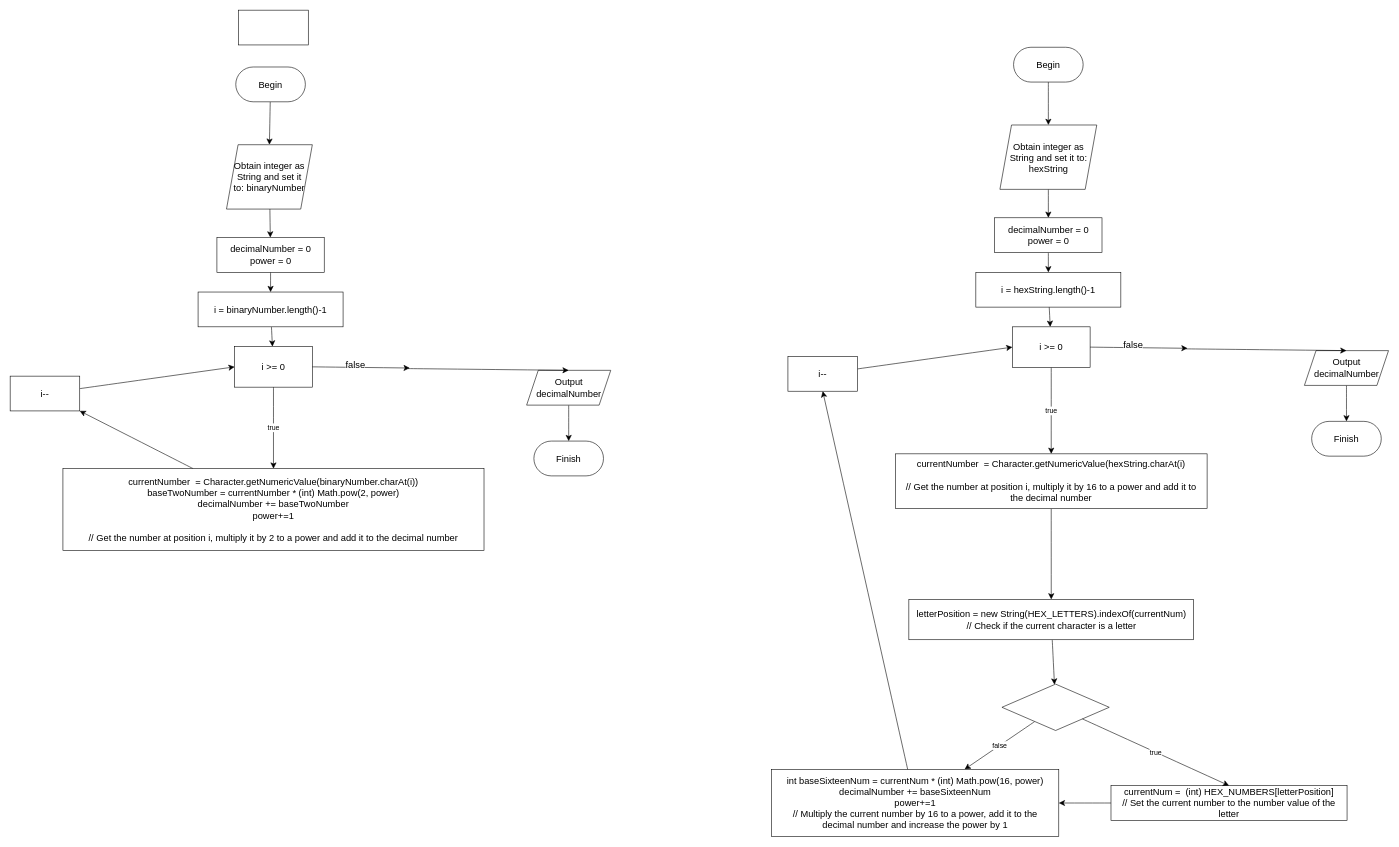
Image size: 1399x847. Some labels were removed from this diagram. Each missing label, with the centre of its shape:
"Binary To Decimal Subroutine" belongs at [273,27].
"if letterPosition >= 0" belongs at [1055,707].
